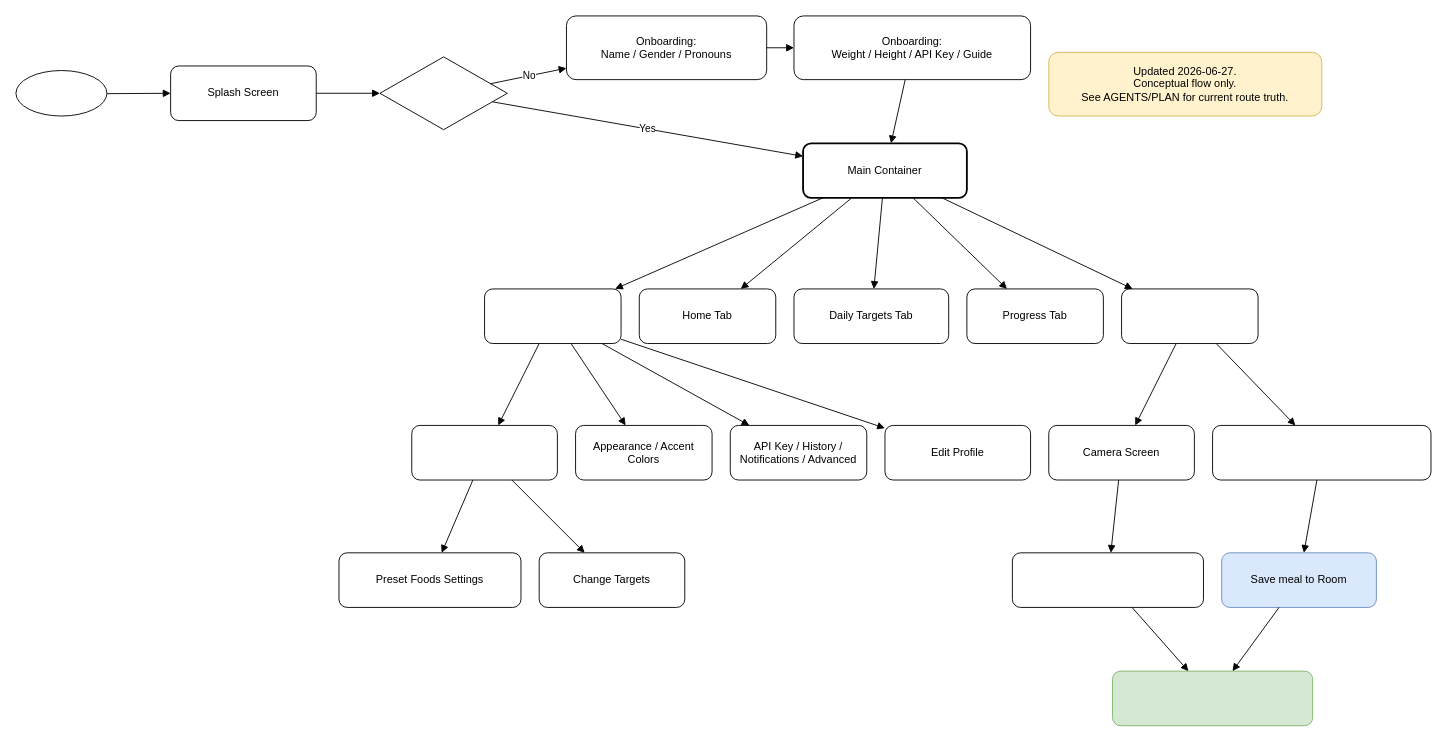
The diagram is 1447 pixels wide and 742 high, and some of its shapes have lost their labels. Each missing label, with the centre of its shape:
Edit Nutrients: point 484,452
Manual Entry / Meal Edit: point 1321,452
Nutrition Detail Screen: point 1107,579
Plus Menu: point 1189,316
Profile exists?: point 443,93
Settings Tab / Hub: point 552,316
Start: point 61,93
Update Home / Targets / Progress: point 1212,698
